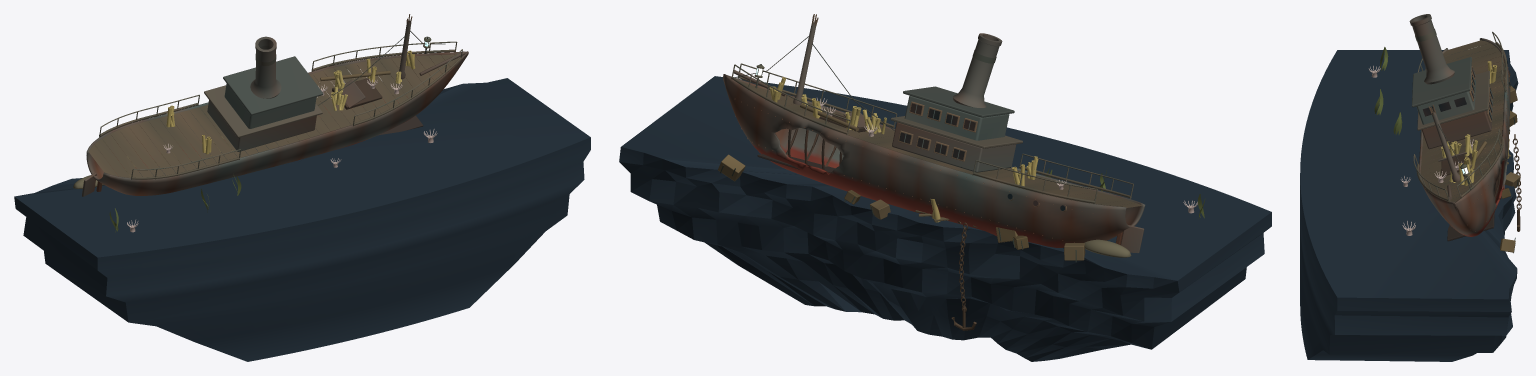
The model's file is barco-hundido.glb.
3 views of the same model, side by side, from view 1: azimuth 30°, elevation 25°; view 2: azimuth 150°, elevation 25°; view 3: azimuth 270°, elevation 25° (orthographic). The views are drawn at different scales.
Visible parts, largest first — view 1: ledge, hull, growth; view 2: ledge, hull, debris, growth; view 3: ledge, hull, growth, debris.
Part boxes in pixels (x1,y1,x2,y2): ledge: (14,78,590,361); hull: (82,14,468,196); growth: (109,50,437,232); ledge: (619,76,1271,361); hull: (723,14,1145,252); debris: (718,154,1131,330); growth: (769,77,1205,222); ledge: (1300,50,1518,361); hull: (1409,14,1510,241); growth: (1368,47,1509,235); debris: (1500,85,1521,253).
Size of the model in its own units: 48 by 24.63 by 18.16.
